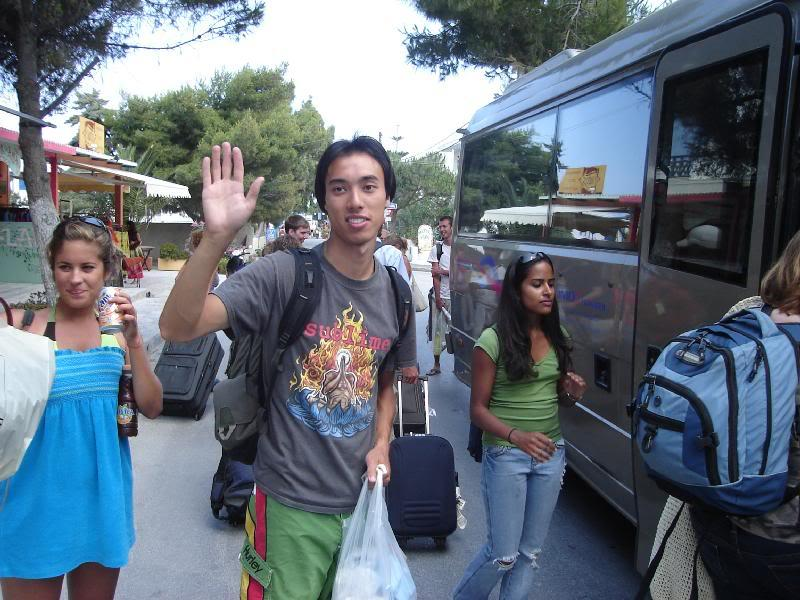person: (154, 138, 418, 600)
